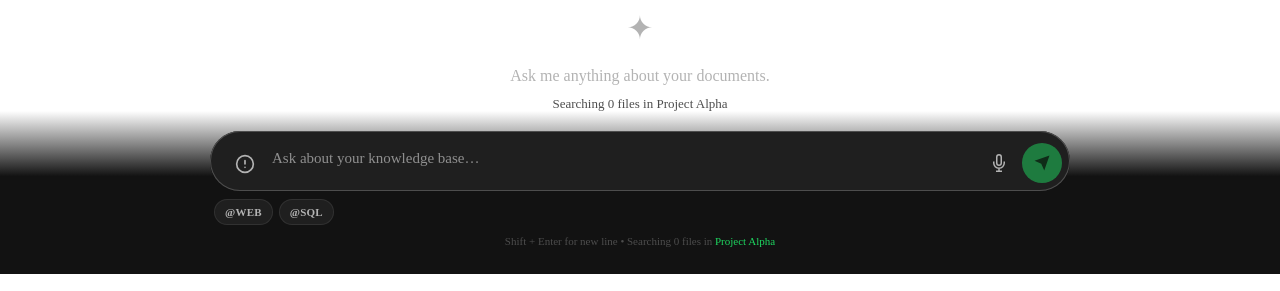
Test case: ChatView — tag shortcut buttons › DOCUMENTED LIMITATION: does duplicate the tag if it appears at word index 3 or later
Type "one two three @web" into the text box with placeholder "Ask about your knowledge base…" at (623, 160), box [272, 138, 974, 182]
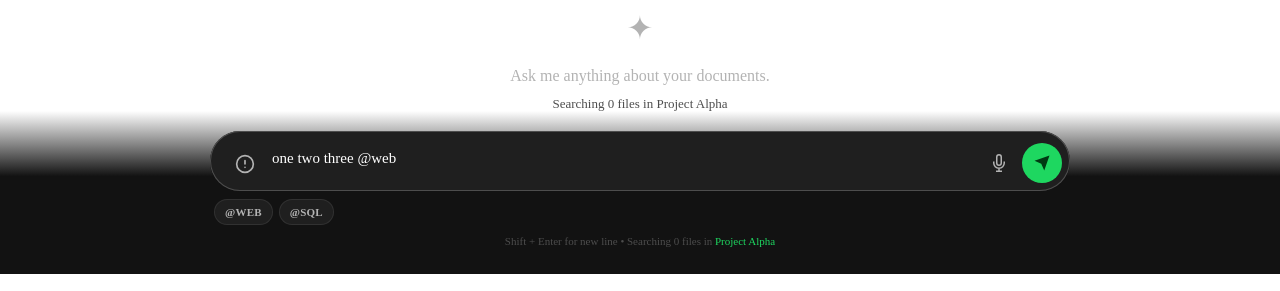
Click the button "@WEB" at (243, 212), box [214, 198, 273, 225]
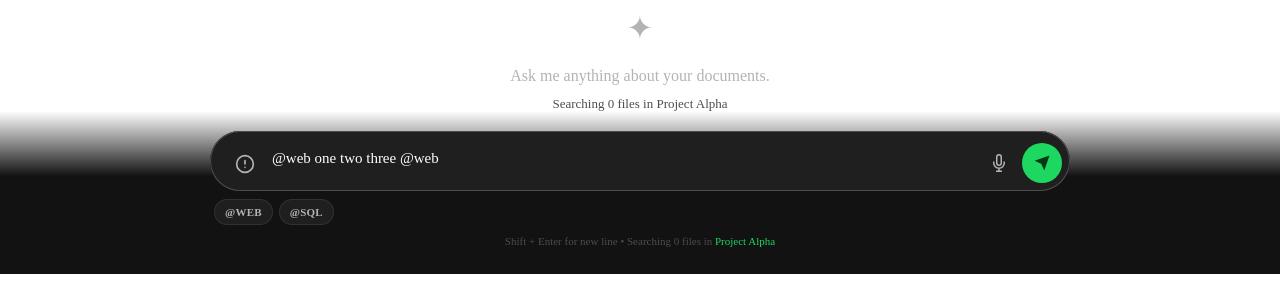
expect the text box with placeholder "Ask about your knowledge base…" holds "@web one two three @web": met, box [272, 138, 974, 182]
